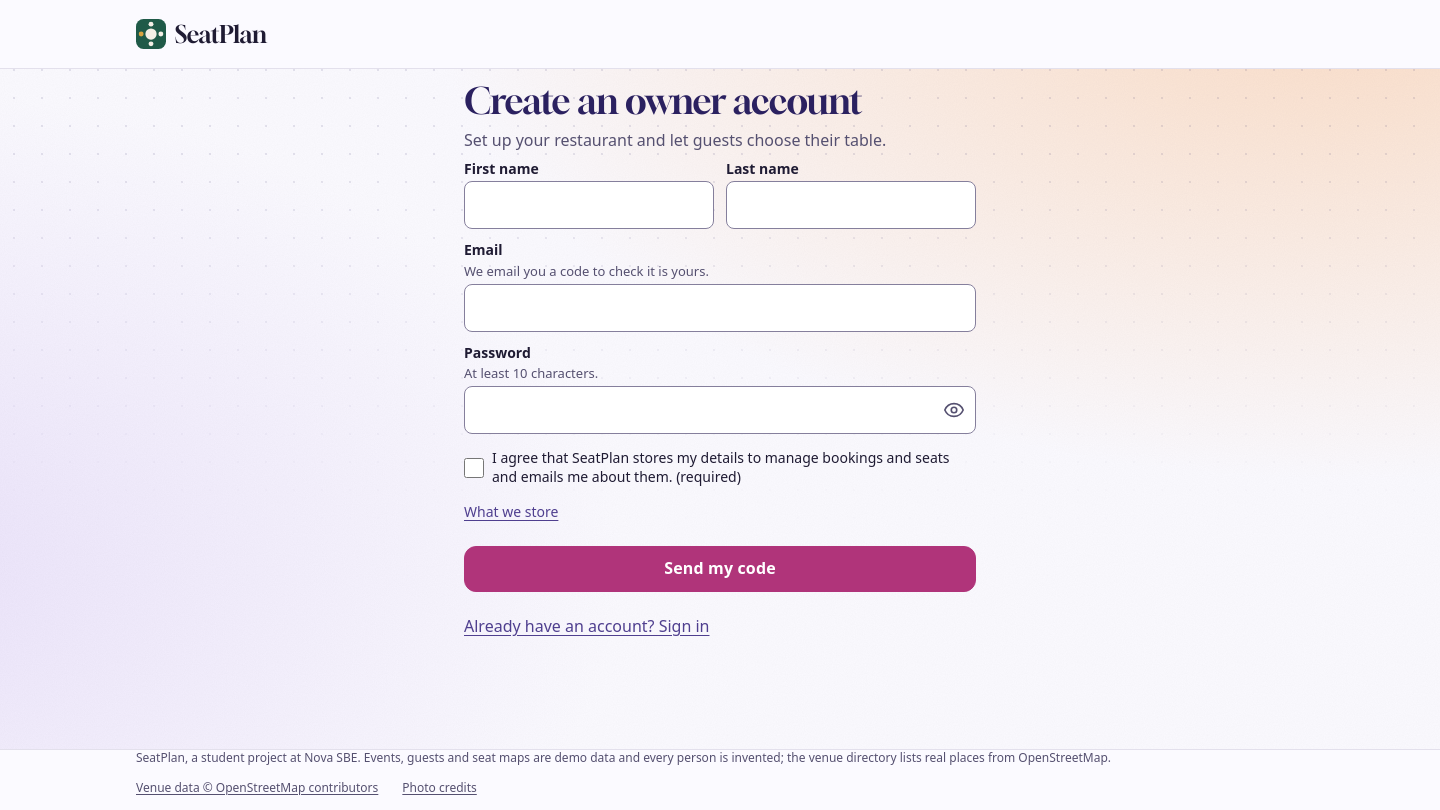
Scenario: verifies an owner code before entering My restaurants
Later steps or results of the test are not shown.
Step 1. Type "Owen" into the field labelled "First name" → (589, 205), box x1=464 y1=181 x2=714 y2=229
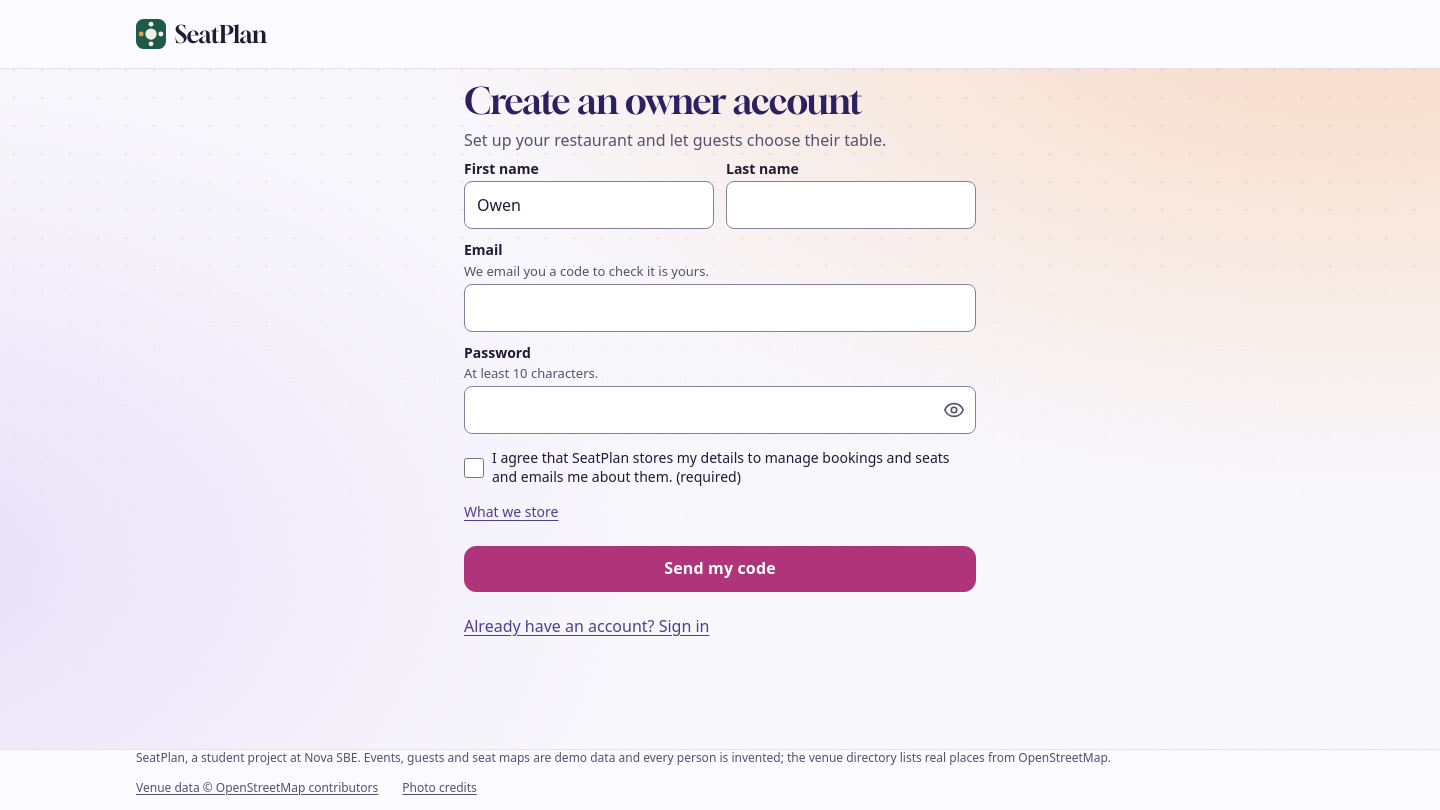
Step 2. Type "Owner" into the field labelled "Last name" → (851, 205), box x1=726 y1=181 x2=976 y2=229
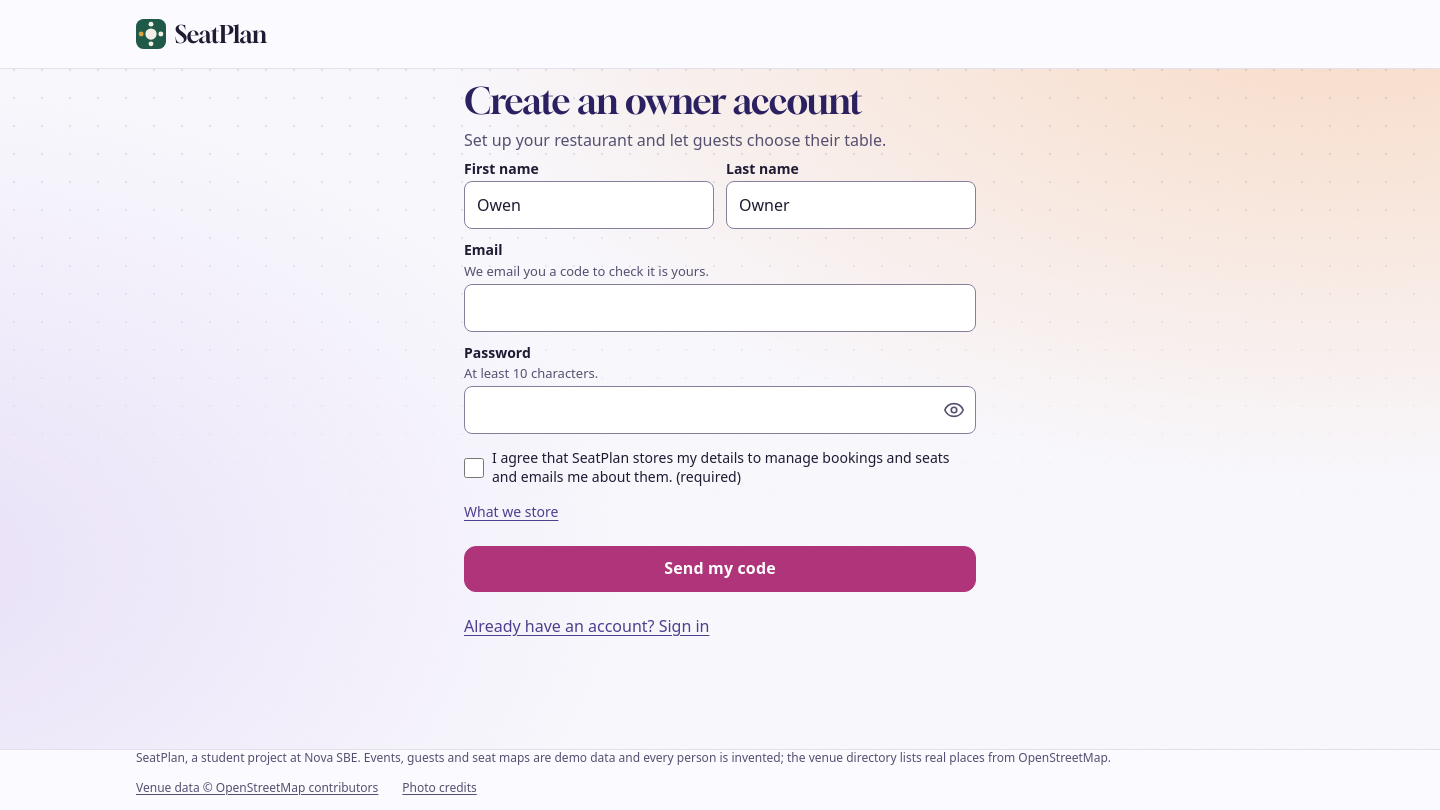
Step 3. Type "owner@example.com" into the field labelled "Email" → (720, 308), box x1=464 y1=284 x2=976 y2=332
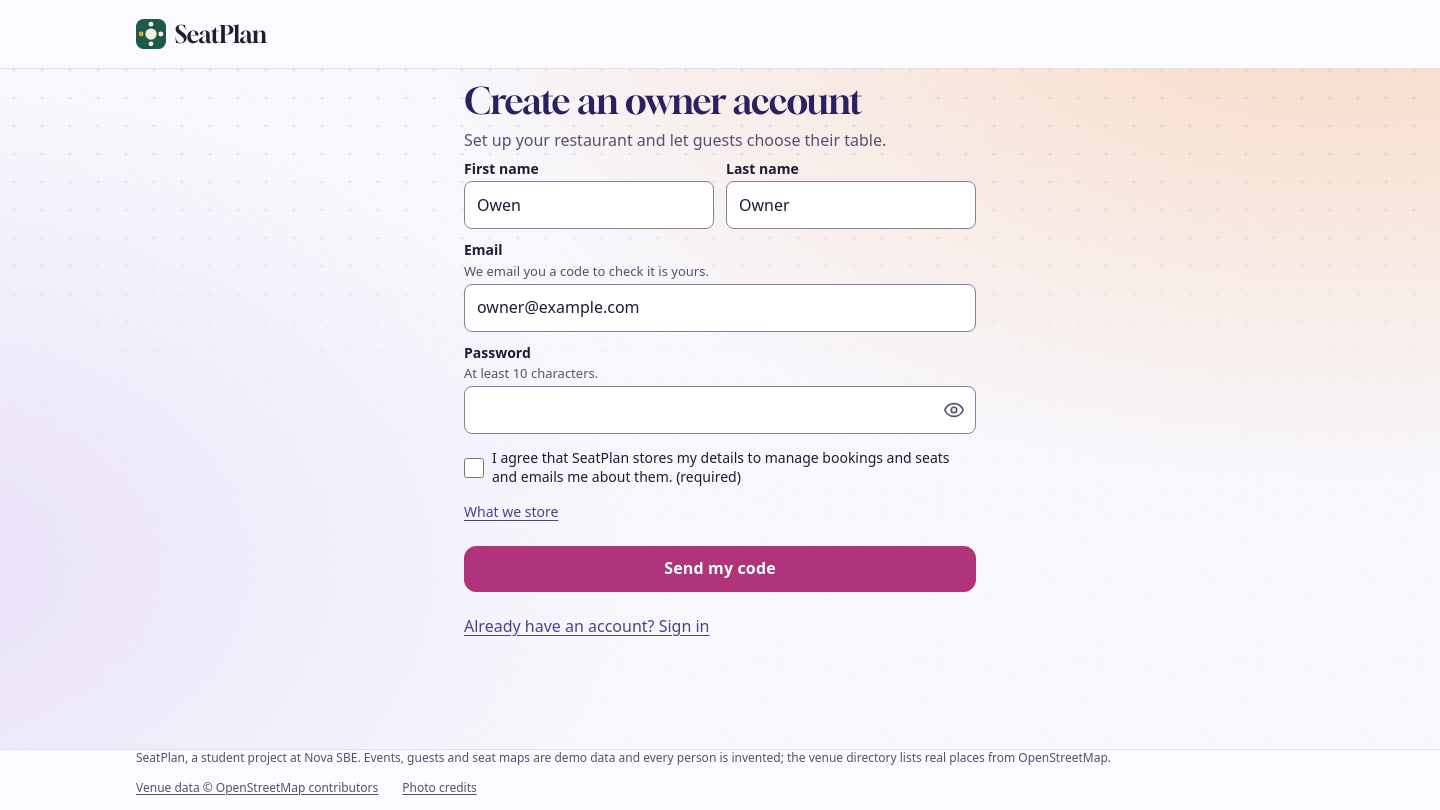
Step 4. Type "a long safe password" into the password field labelled "Password" → (720, 410), box x1=464 y1=386 x2=976 y2=434
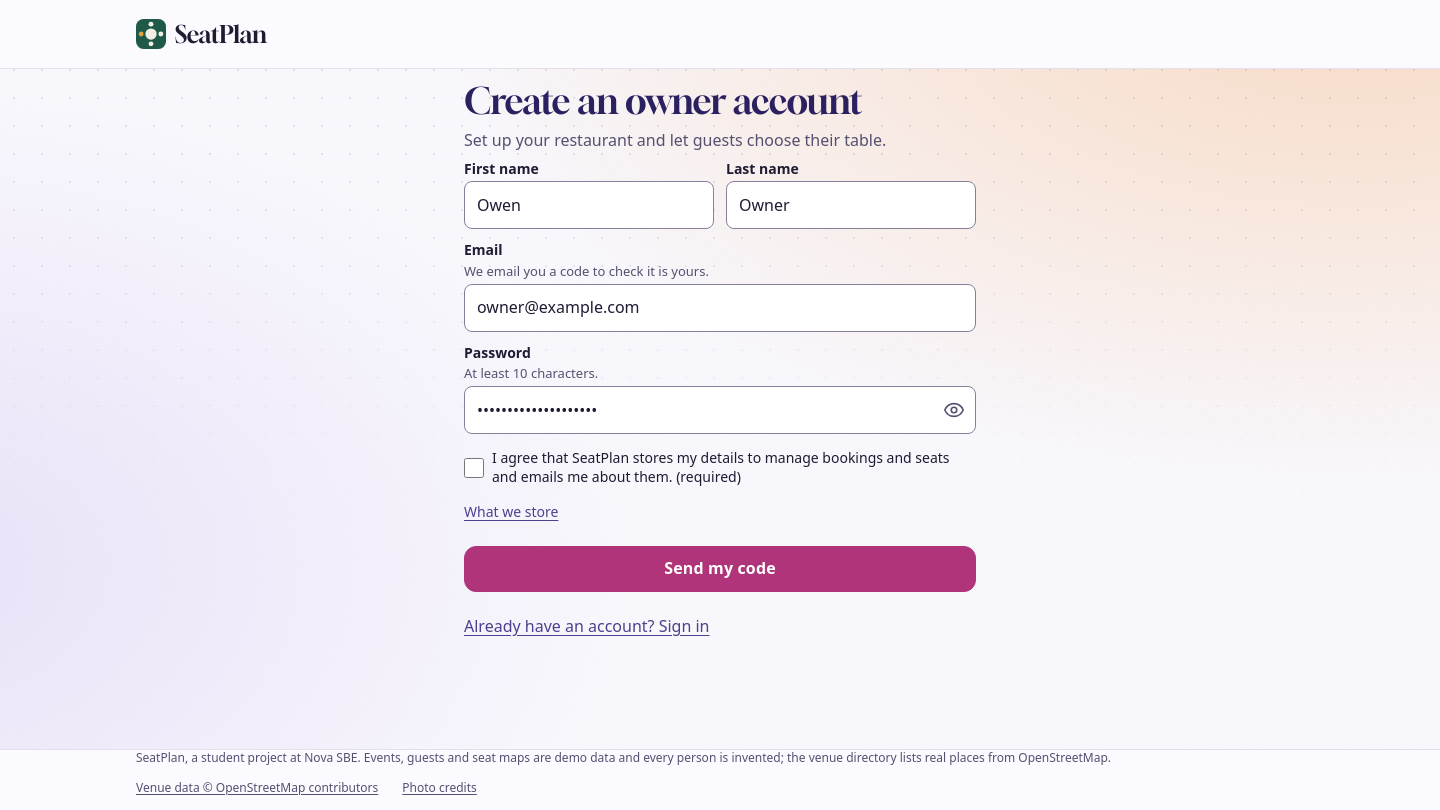
Step 5. Click the checkbox → (474, 468), box x1=464 y1=458 x2=484 y2=478
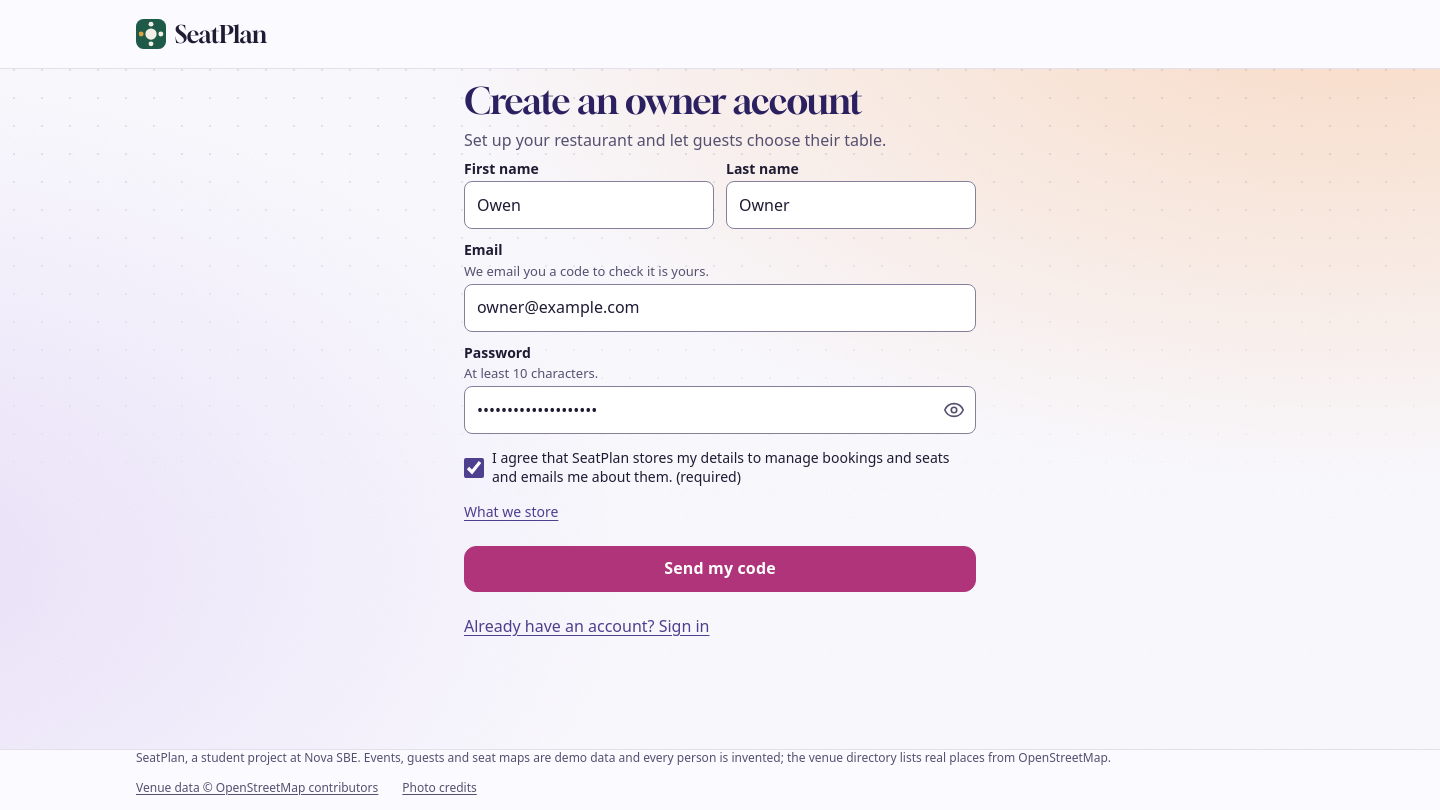
Step 6. Click the button "Send my code" → (720, 569), box x1=464 y1=546 x2=976 y2=592
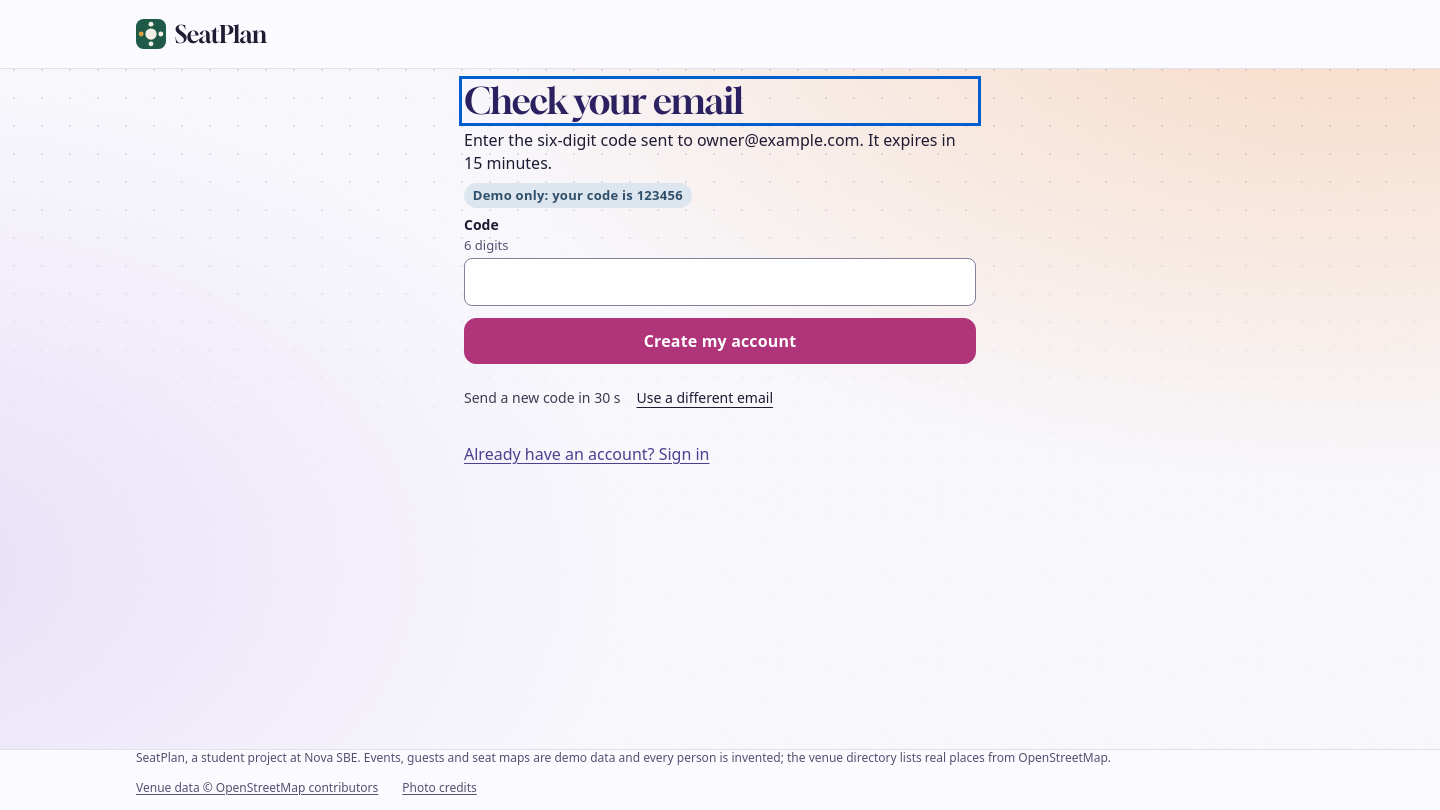
Check: the field labelled "Code" is shown, box x1=464 y1=258 x2=976 y2=306
